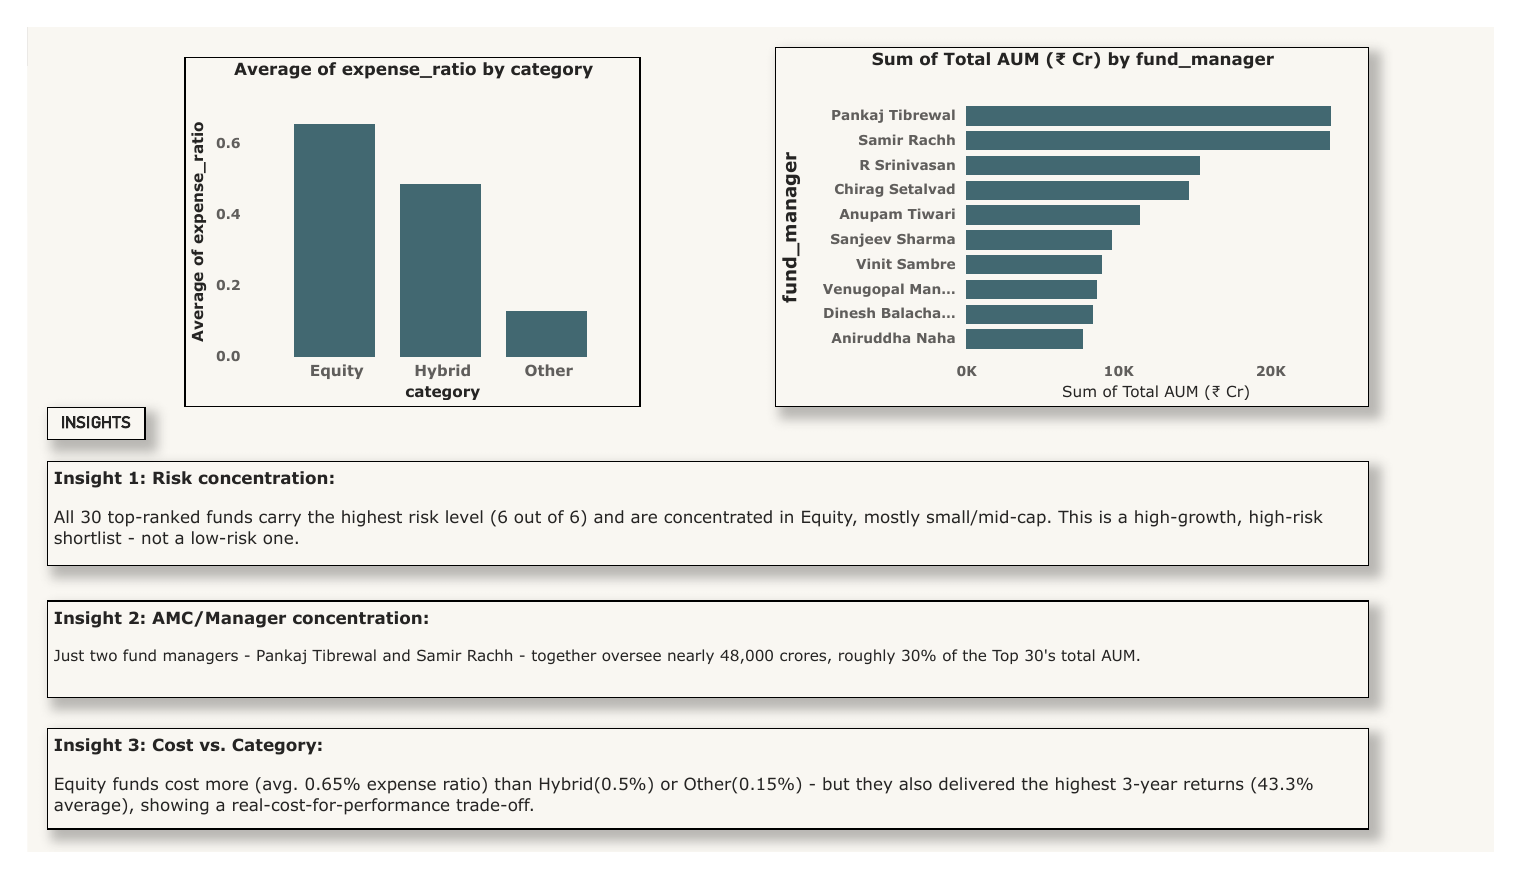

The page's visual inventory and layout, read from the dashboard file:
{"tool":"powerbi","page":{"name":"Insights","canvas":[1280,720],"ordinal":1},"visuals":[{"type":"clusteredColumnChart","fields":{"Category":["Top 30 Mutual Funds.category"],"Y":["Avg(Top 30 Mutual Funds.expense_ratio)"]},"box":[136.8,26.1,398.1,304.8],"z":0},{"type":"clusteredBarChart","fields":{"Category":["Top 30 Mutual Funds.fund_manager"],"Y":["Sum(Top 30 Mutual Funds.Total AUM (₹ Cr))"]},"box":[651.8,17.4,518.7,313.5],"z":1000},{"type":"textbox","box":[17.4,378.2,1153.2,92.1],"z":2000},{"type":"textbox","box":[17.4,500.1,1153.2,84.6],"z":3000},{"type":"textbox","box":[17.4,610.8,1153.2,89.6],"z":4000},{"type":"textbox","box":[17.4,330.9,85.8,28.6],"z":5000}]}

Visuals, with their boxes in screenshot pixels (x1, y1, x2, y2), scaled from the page's 1280x720 canvas onto the 1522x880 screenshot:
clusteredColumnChart - Top 30 Mutual Funds.category x Avg(Top 30 Mutual Funds.expense_ratio): 163,32,636,404
clusteredBarChart - Top 30 Mutual Funds.fund_manager x Sum(Top 30 Mutual Funds.Total AUM (₹ Cr)): 775,21,1392,404
textbox: 21,462,1392,575
textbox: 21,611,1392,715
textbox: 21,747,1392,856
textbox: 21,404,123,439
